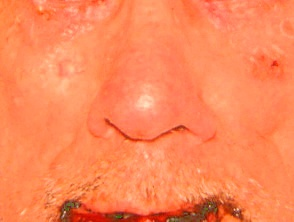SJS-TEN: (46, 188, 252, 222)
